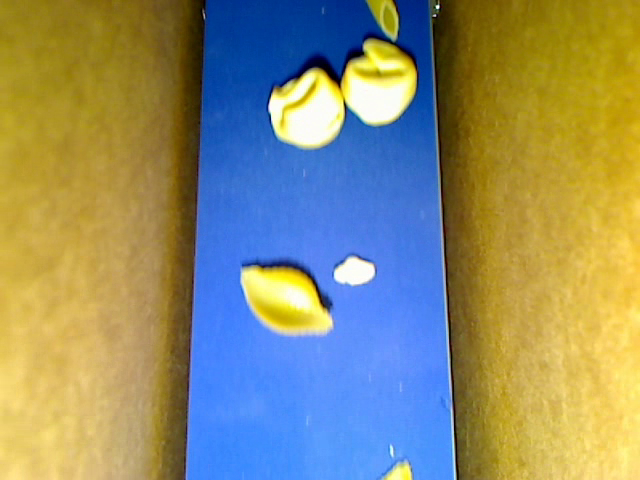penne: (365, 1, 398, 41)
shell: (240, 265, 333, 339)
tortellini: (341, 38, 417, 126), (268, 68, 344, 148)
